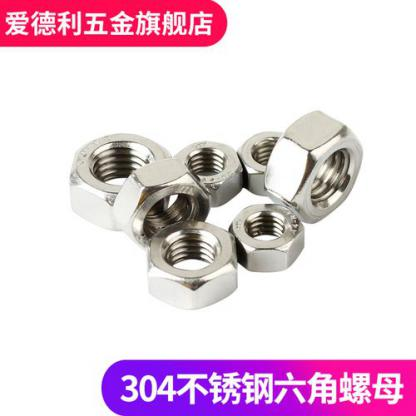FOD: (263, 108, 368, 226), (62, 130, 176, 233), (109, 156, 214, 252), (146, 216, 239, 312), (228, 202, 308, 272), (234, 129, 313, 197), (172, 139, 244, 210)
